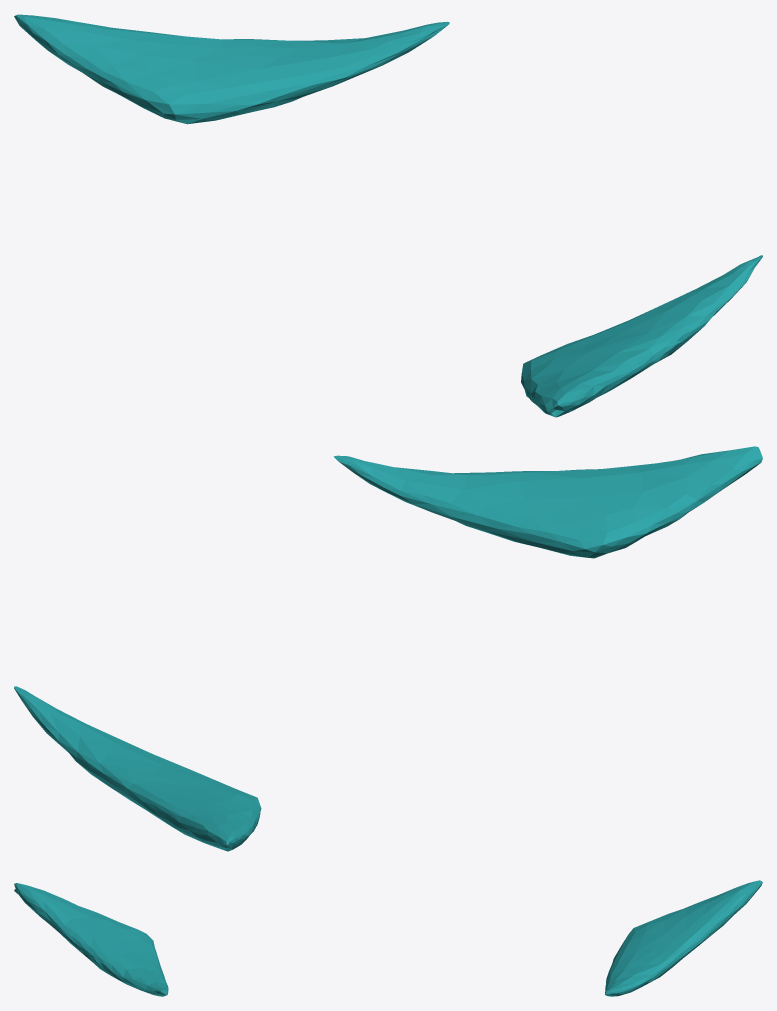
The picture shows the model from 3 angles, top to bottom: view 1: azimuth 30°, elevation 25°; view 2: azimuth 150°, elevation 25°; view 3: azimuth 270°, elevation 25°; orthographic projection. The views are drawn at different scales.
Parts seen in each view (by area): view 1: 805.obj; view 2: 805.obj; view 3: 805.obj.
Part boxes in pixels (<box>): 805.obj: <box>14,14,762,417</box>; 805.obj: <box>14,446,762,851</box>; 805.obj: <box>14,880,762,996</box>.
Size of the model in its own units: 1628 by 291 by 4667.
